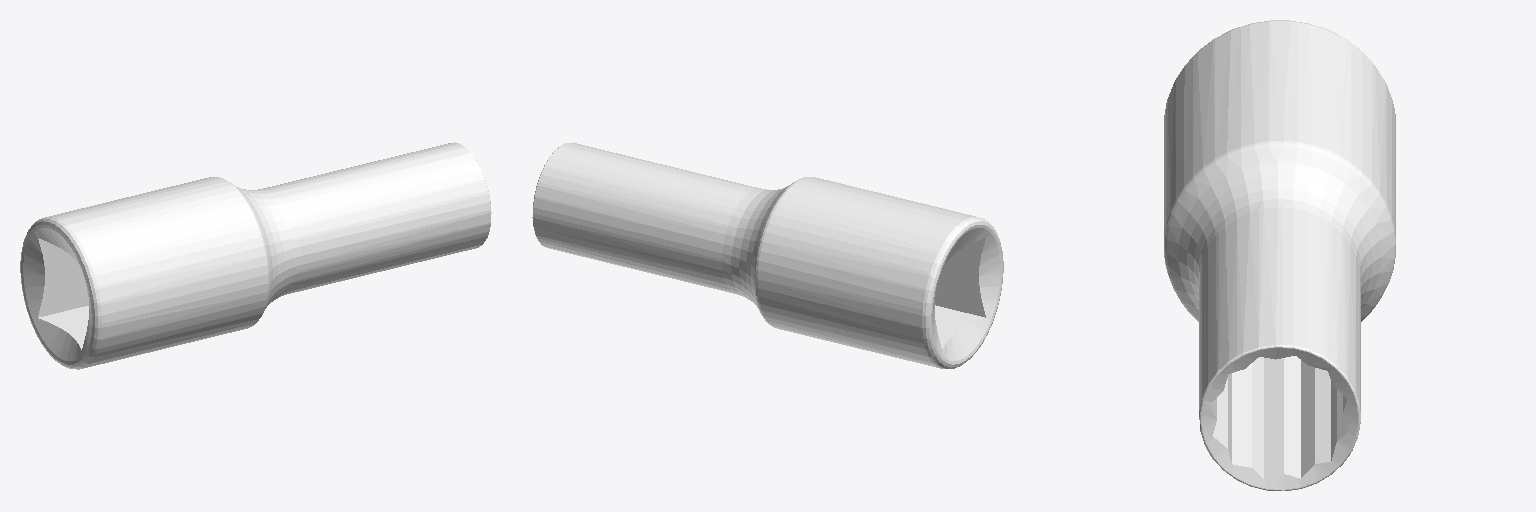
robot.urdf — M8_sleeve:
<?xml version="1.0" encoding="utf-8"?>
<!-- This URDF was automatically created by SolidWorks to URDF Exporter! Originally created by [author] ([email redacted]) 
     Commit Version: 1.6.0-4-g7f85cfe  Build Version: 1.6.7995.38578
     For more information, please see http://wiki.ros.org/sw_urdf_exporter -->
<robot
  name="M8_sleeve">
  <link
    name="M8_sleeve_base_link">
    <inertial>
      <origin
        xyz="-0.00074003 1.5829E-17 -2.6151E-16"
        rpy="0 0 0" />
      <mass
        value="0.010747" />
      <inertia
        ixx="8.5579E-07"
        ixy="-4.1281E-21"
        ixz="6.8952E-20"
        iyy="3.5699E-06"
        iyz="0"
        izz="3.5699E-06" />
    </inertial>
    <visual>
      <origin
        xyz="0 0 0"
        rpy="0 0 0" />
      <geometry>
        <mesh
          filename="package://M8_sleeve/meshes/M8_sleeve_base_link.dae" />
      </geometry>
      <material
        name="">
        <color
          rgba="1 1 1 1" />
      </material>
    </visual>
    <collision>
      <origin
        xyz="0 0 0"
        rpy="0 0 0" />
      <geometry>
        <mesh
          filename="package://M8_sleeve/meshes/M8_sleeve_base_link.dae" />
      </geometry>
    </collision>
  </link>
</robot>

--- Facts derived from the render (not from the file) ---
Views: 3 orthographic renders of the robot side by side, from view 1: azimuth 30°, elevation 25°; view 2: azimuth 150°, elevation 25°; view 3: azimuth 270°, elevation 25°.
Model M8_sleeve with 1 links and 0 joints (none), rooted at M8_sleeve_base_link, posed all joints at 0.
Visible links, largest first — view 1: M8_sleeve_base_link; view 2: M8_sleeve_base_link; view 3: M8_sleeve_base_link.
Boxes of the visible links, bbox=[...] form: M8_sleeve_base_link: bbox=[20, 142, 491, 369]; M8_sleeve_base_link: bbox=[532, 143, 1003, 368]; M8_sleeve_base_link: bbox=[1164, 20, 1395, 490].
Size in the robot's own frame: 0.0694 by 0.023 by 0.023 metres.
1 mesh visuals loaded from 1 distinct referenced files (1 Collada DAE).